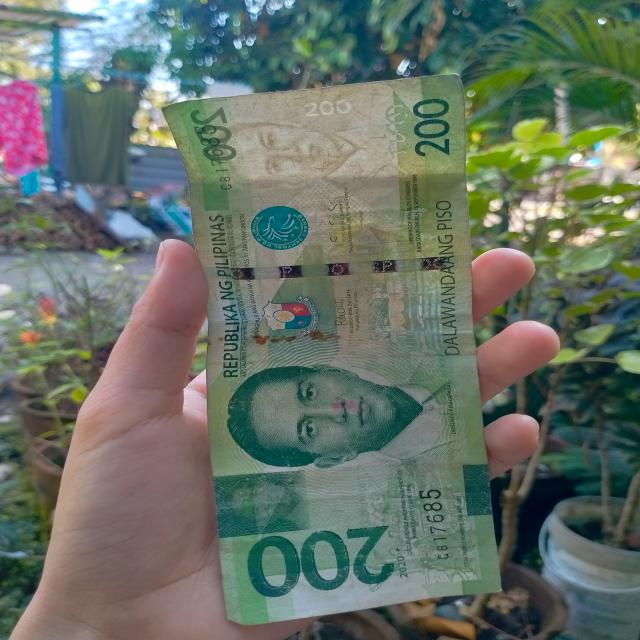concealed_value: (211, 467, 306, 538)
security_thread: (205, 253, 492, 283)
see_through_mark: (382, 101, 416, 190)
serial_number: (196, 119, 238, 200), (418, 486, 449, 566)
value: (247, 523, 398, 598)
value_watermark: (300, 98, 358, 119)
watermark: (206, 111, 396, 208)
